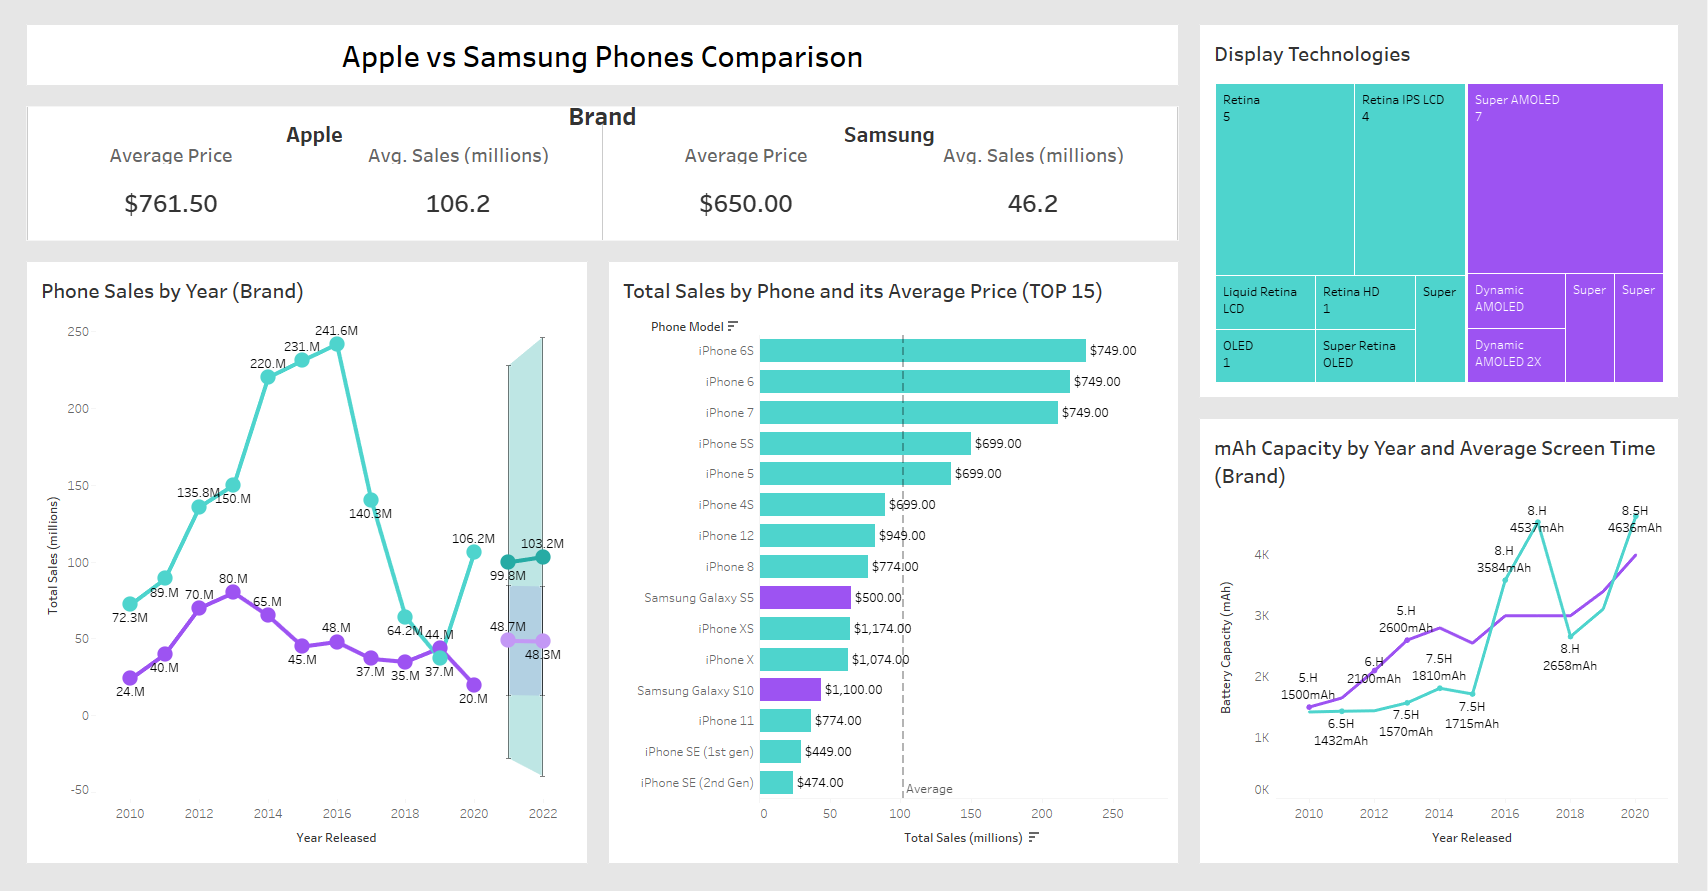

What the dashboard file says about the page in this screenshot:
{"tool":"tableau","page":{"name":"Dashboard","canvas":[1000,1000],"units":"permille","ordinal":0},"visuals":[{"type":"text","box":[10.5,20.1,698.5,91.5]},{"type":"worksheet","title":"Display Technologies","mark":"Automatic","box":[709.1,20.1,280.4,959.8]},{"type":"worksheet","title":"KPIs","mark":"Automatic","cols":["Brand"],"box":[10.5,111.6,698.5,181.9]},{"type":"worksheet","title":"Phone Sales by Year (Brand)","mark":"Automatic","rows":["Total Sales (millions)","Total Sales (millions)"],"cols":["Year Released"],"box":[10.5,293.5,354,686.2]},{"type":"worksheet","title":"Total Sales by Phone (TOP 15)","mark":"Automatic","rows":["Phone Model"],"cols":["Total Sales (millions)"],"box":[364.5,293.5,344.5,686.2]}]}

Visuals, with their boxes on the dashboard's canvas, which has no fixed pixel size, in thousandths of its width and height (x1, y1, x2, y2). These are canvas units, not pixel positions in the 1708x891 screenshot, which may show the page scaled, cropped or inside an application window:
text: left=10, top=20, right=709, bottom=112
"Display Technologies" worksheet: left=709, top=20, right=990, bottom=980
"KPIs" worksheet: left=10, top=112, right=709, bottom=294
"Phone Sales by Year (Brand)" worksheet: left=10, top=294, right=364, bottom=980
"Total Sales by Phone (TOP 15)" worksheet: left=364, top=294, right=709, bottom=980
